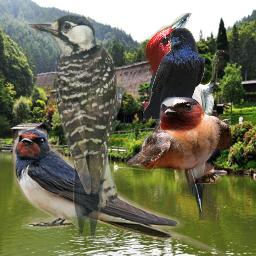Crow: (143, 27, 205, 122)
Swallow: (12, 125, 229, 256), (127, 97, 231, 184)
Woodpecker: (27, 14, 141, 244), (144, 13, 231, 220)
